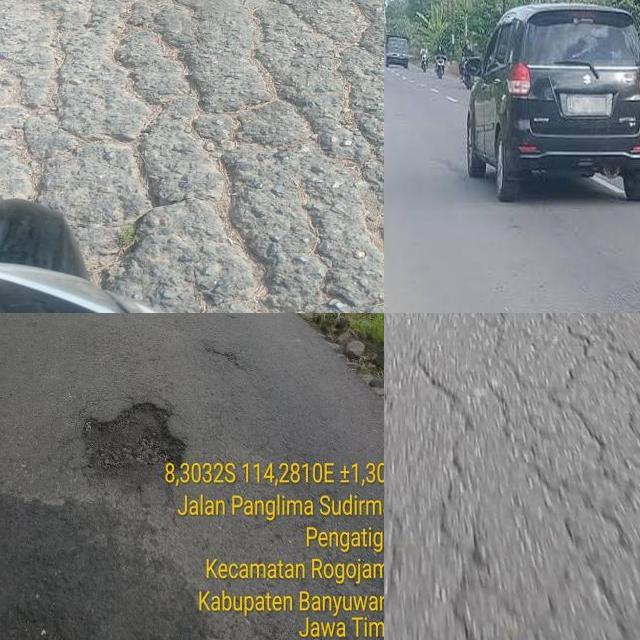Lubang: (85, 411, 180, 477)
Retak Buaya: (26, 0, 384, 313), (384, 327, 640, 640)
